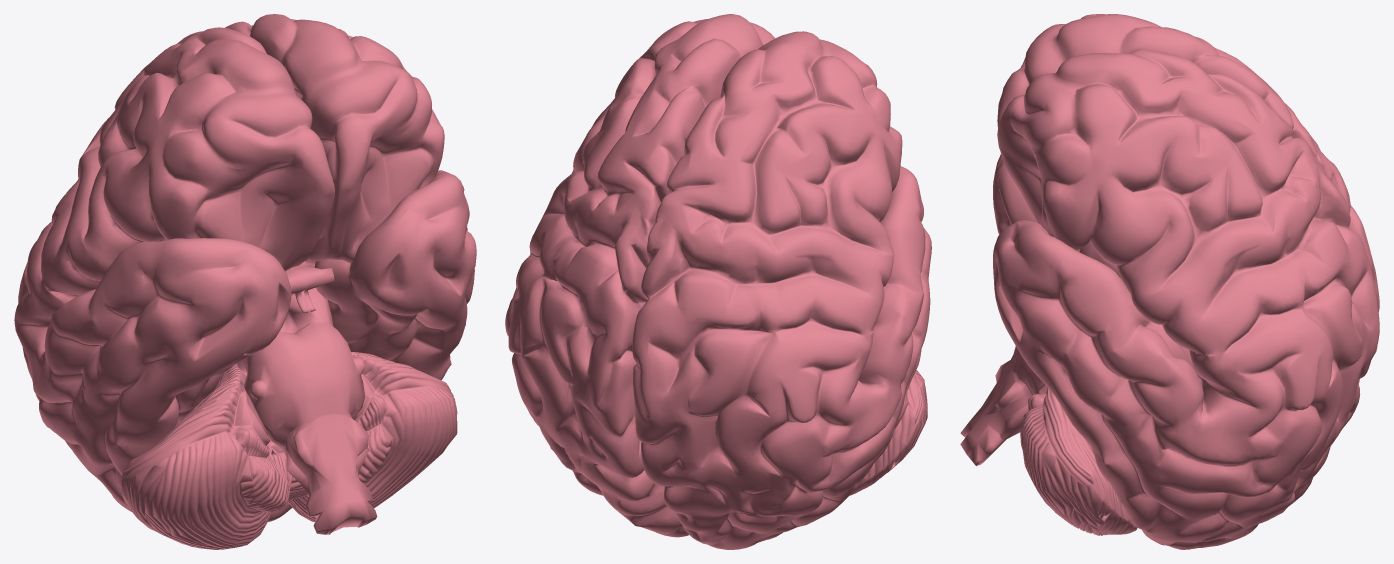
The model's file is brain.glb.
3 renders of one model, left to right at view 1: azimuth 30°, elevation 25°; view 2: azimuth 150°, elevation 25°; view 3: azimuth 270°, elevation 25°, orthographic. The views are drawn at different scales.
Visible parts, largest first — view 1: Brain_Part_05; view 2: Brain_Part_05; view 3: Brain_Part_05.
Boxes of the visible parts, x1,y1,x2,y2 form: Brain_Part_05: (14, 14, 476, 549); Brain_Part_05: (505, 14, 931, 549); Brain_Part_05: (960, 14, 1379, 549).
Bounding box in the file's own units: 3.8 × 4.69 × 3.62.
